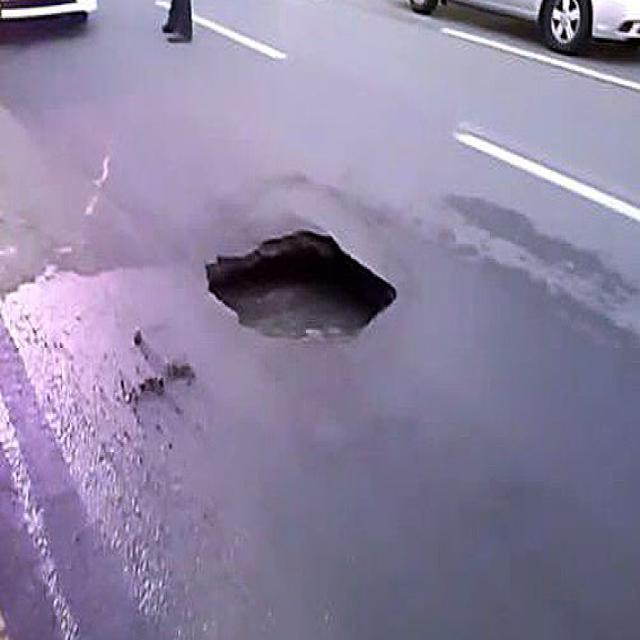pothole: (188, 197, 408, 357)
